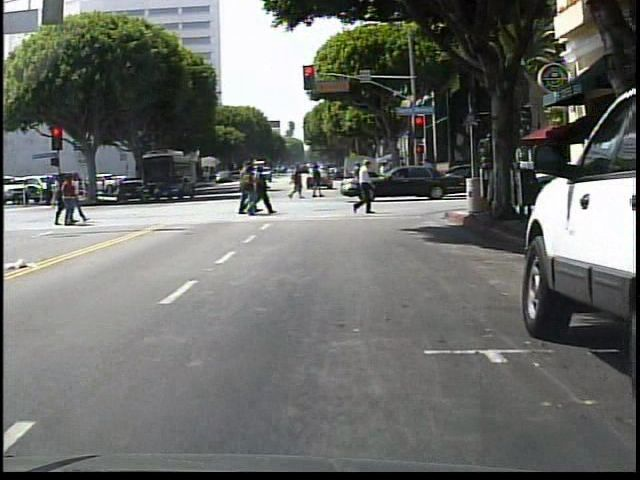person: (349, 157, 383, 221)
